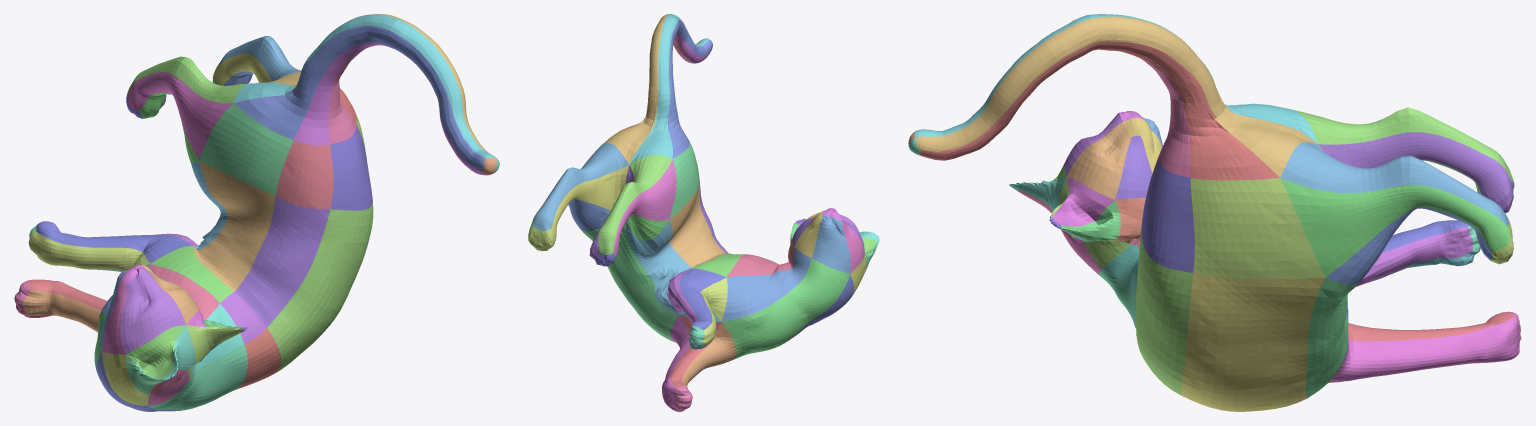
The model's file is 13_cat_output.obj.
3 views of the same model, side by side, from view 1: azimuth 30°, elevation 25°; view 2: azimuth 150°, elevation 25°; view 3: azimuth 270°, elevation 25° (orthographic). The views are drawn at different scales.
Bounding box in the file's own units: 80.86 × 95.05 × 117.
